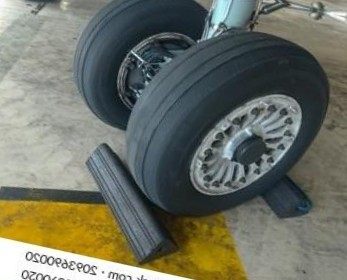chock: (65, 138, 198, 273), (231, 155, 321, 225)
wheel: (121, 14, 342, 239), (62, 0, 217, 144)
